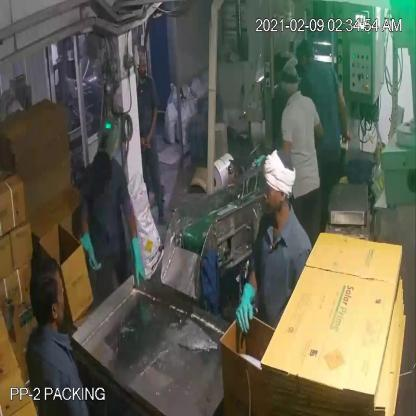glove: (223, 278, 262, 340), (123, 232, 150, 292), (76, 223, 104, 270)
no_glove: (333, 80, 356, 154)
